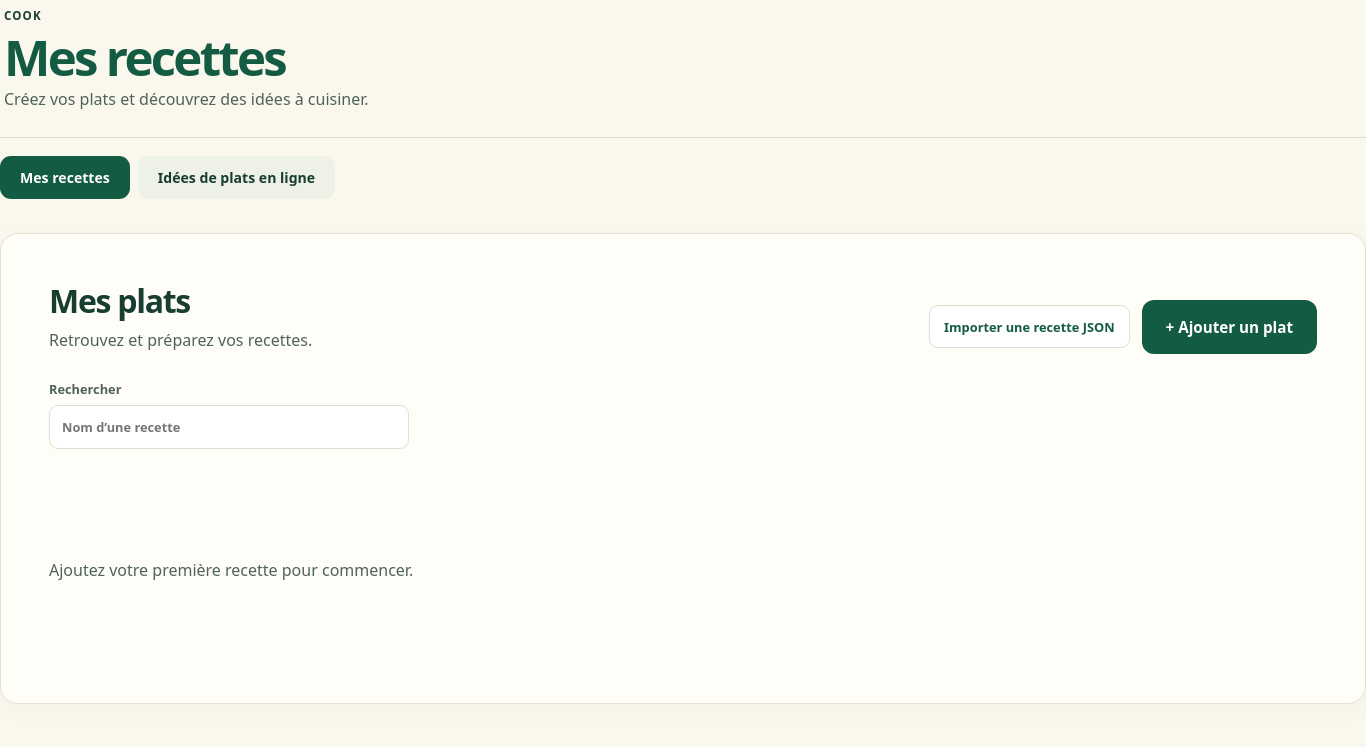
TheMealDB translation › displays a valid French translation without losing the recipe detail
Click the button "Idées de plats en ligne".
click(236, 177)  # box [138,156,335,199]
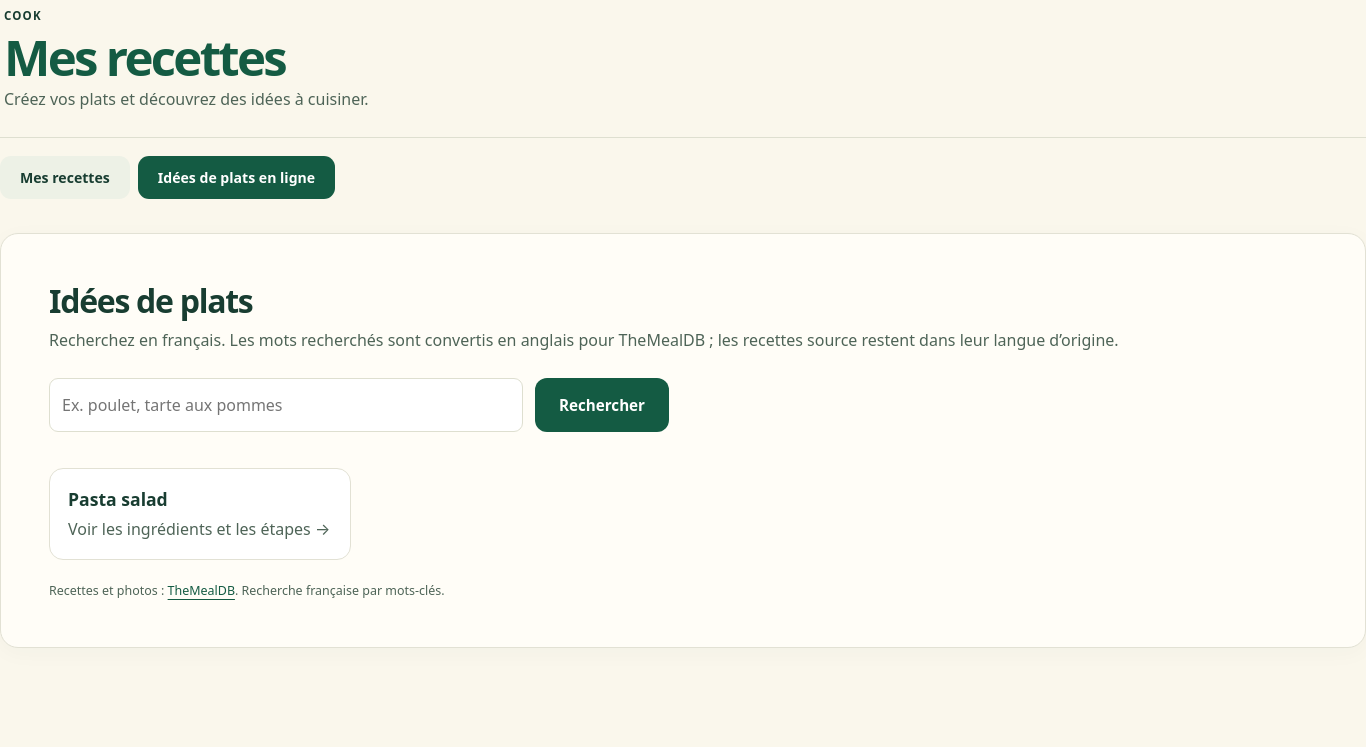
Click the button "Pasta salad Voir les ingrédients et les étapes →".
click(118, 499)  # box [49,468,351,560]
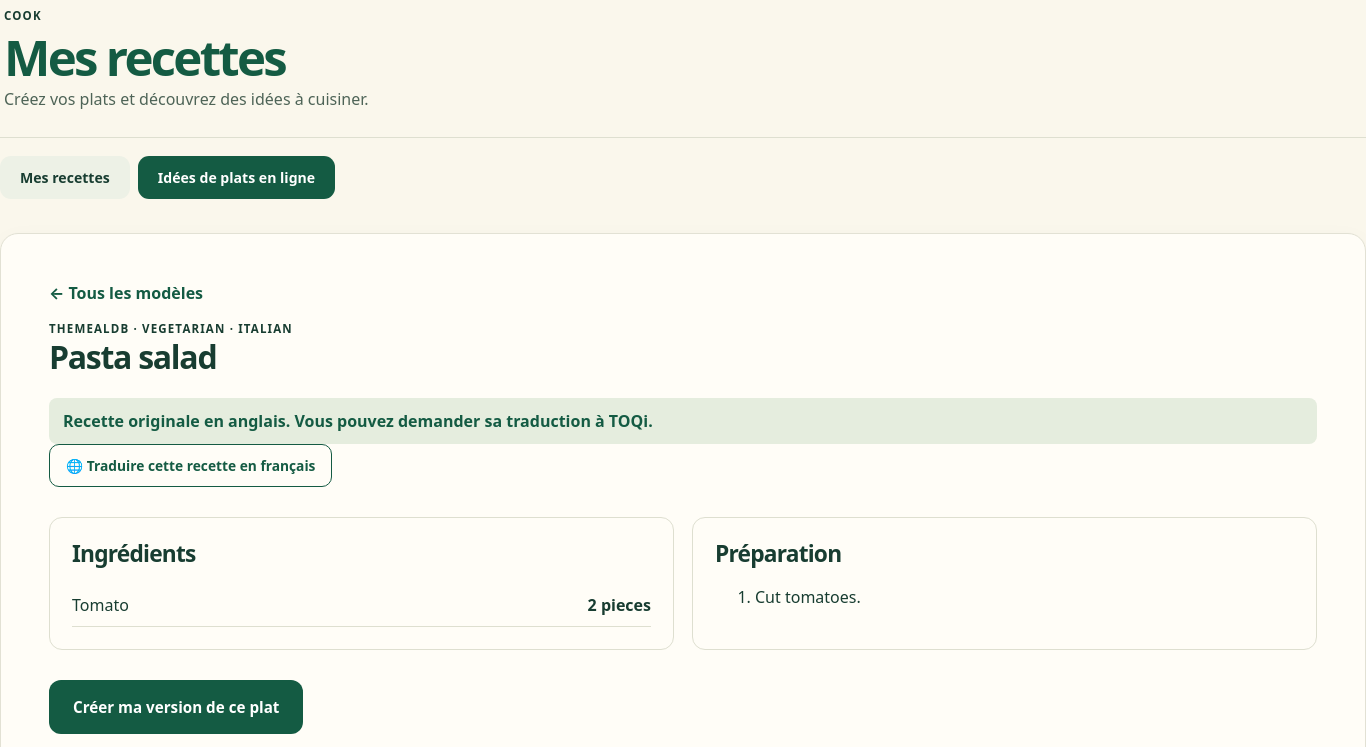
Click the button "🌐 Traduire cette recette en français".
click(191, 466)  # box [49,444,332,487]
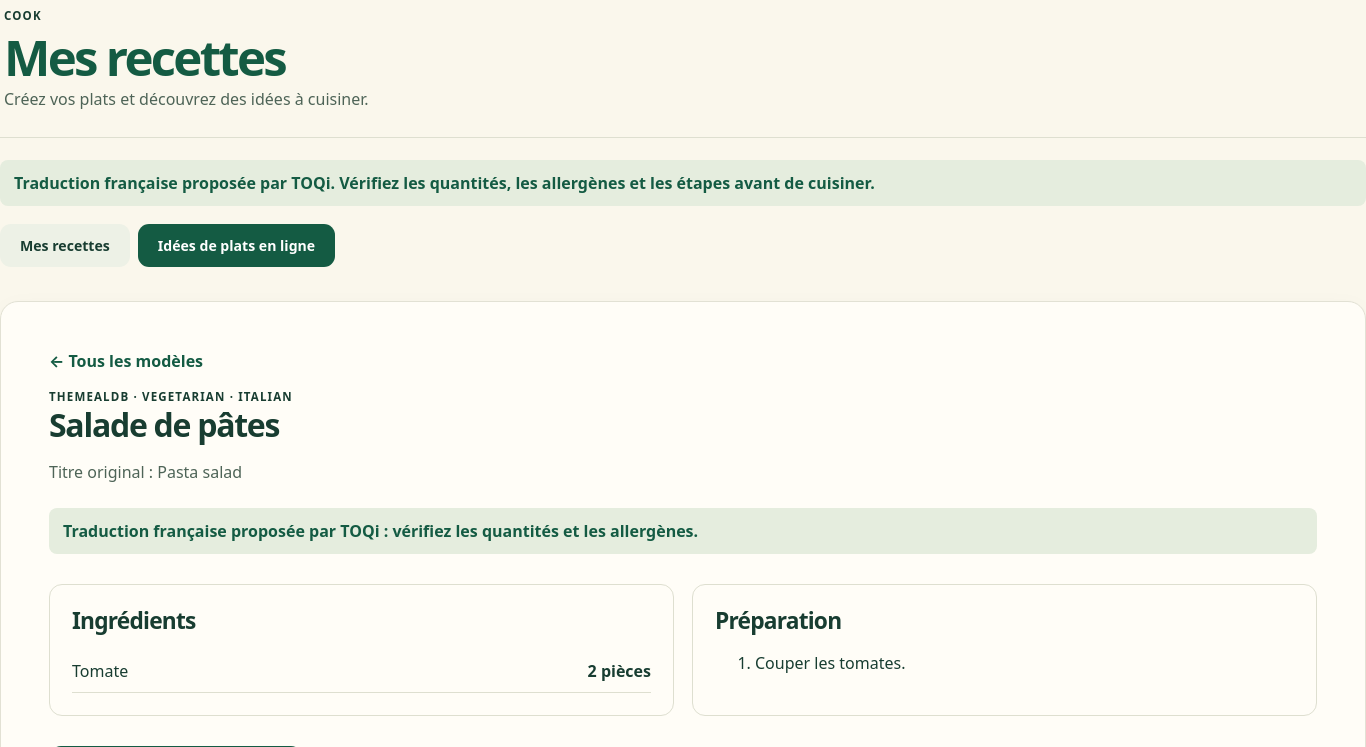
Expected: the heading "Salade de pâtes" is shown, [49,403,279,446]
Expected: the list item "Couper les tomates." is shown, [755,652,905,674]
